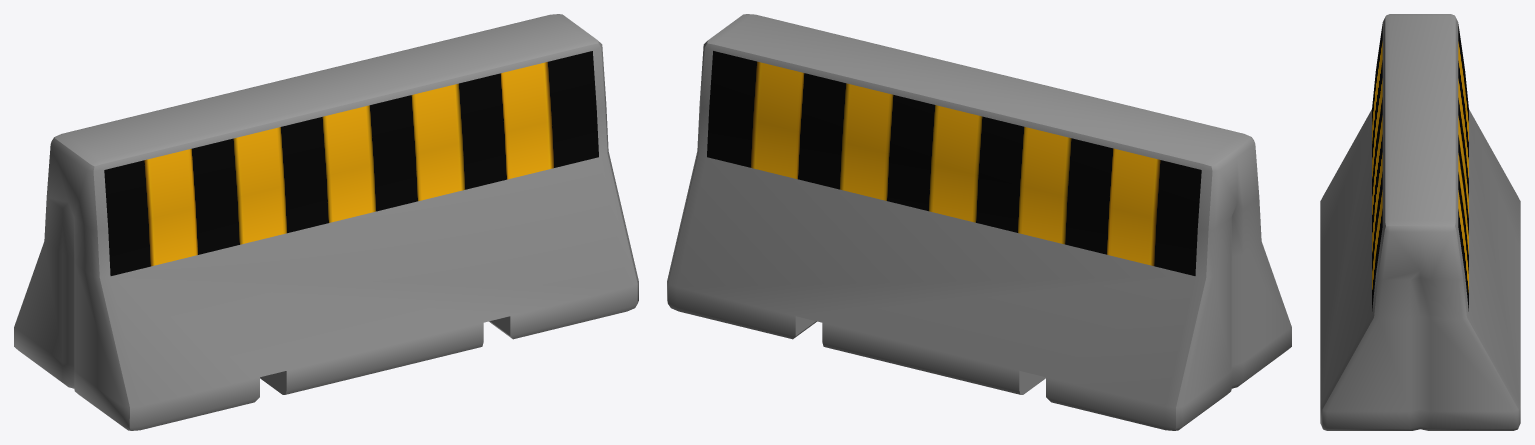
The model's file is BarreraCemento.fbx.
The picture shows the model from 3 angles, left to right: view 1: azimuth 30°, elevation 25°; view 2: azimuth 150°, elevation 25°; view 3: azimuth 270°, elevation 25°; orthographic projection. The views are drawn at different scales.
Parts seen in each view (by area): view 1: BarreraCemento; view 2: BarreraCemento; view 3: BarreraCemento.
Boxes of the visible parts, bbox=[...] form: BarreraCemento: bbox=[14, 14, 638, 430]; BarreraCemento: bbox=[667, 14, 1291, 430]; BarreraCemento: bbox=[1320, 14, 1520, 430].
Bounding box in the file's own units: 4 × 1.57 × 1.81.
2 materials, 1 textured.
